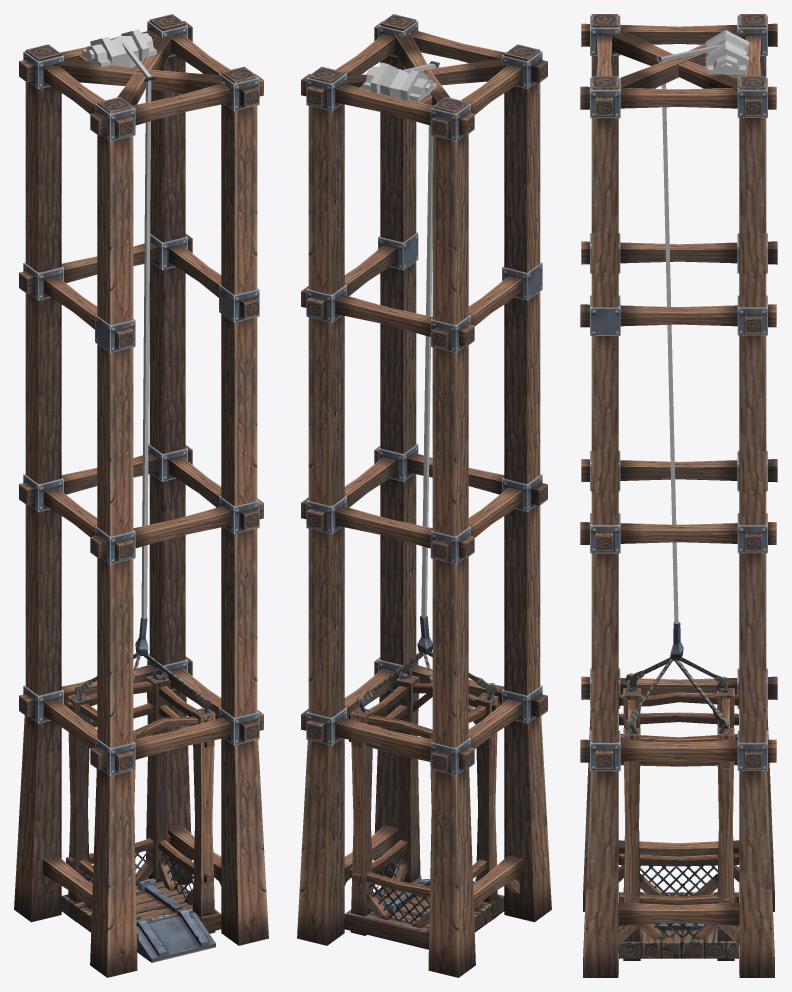
File: mine_entry_01.fbx
The picture shows the model from 3 angles, left to right: view 1: azimuth 30°, elevation 25°; view 2: azimuth 150°, elevation 25°; view 3: azimuth 270°, elevation 25°; orthographic projection. The views are drawn at different scales.
Parts seen in each view (by area): view 1: obj4; view 2: obj4; view 3: obj4.
Boxes of the visible parts, x1,y1,x2,y2 form: obj4: (14, 14, 268, 977); obj4: (297, 14, 551, 977); obj4: (580, 14, 777, 977).
Bounding box in the file's own units: 4.53 × 22.72 × 4.53.
